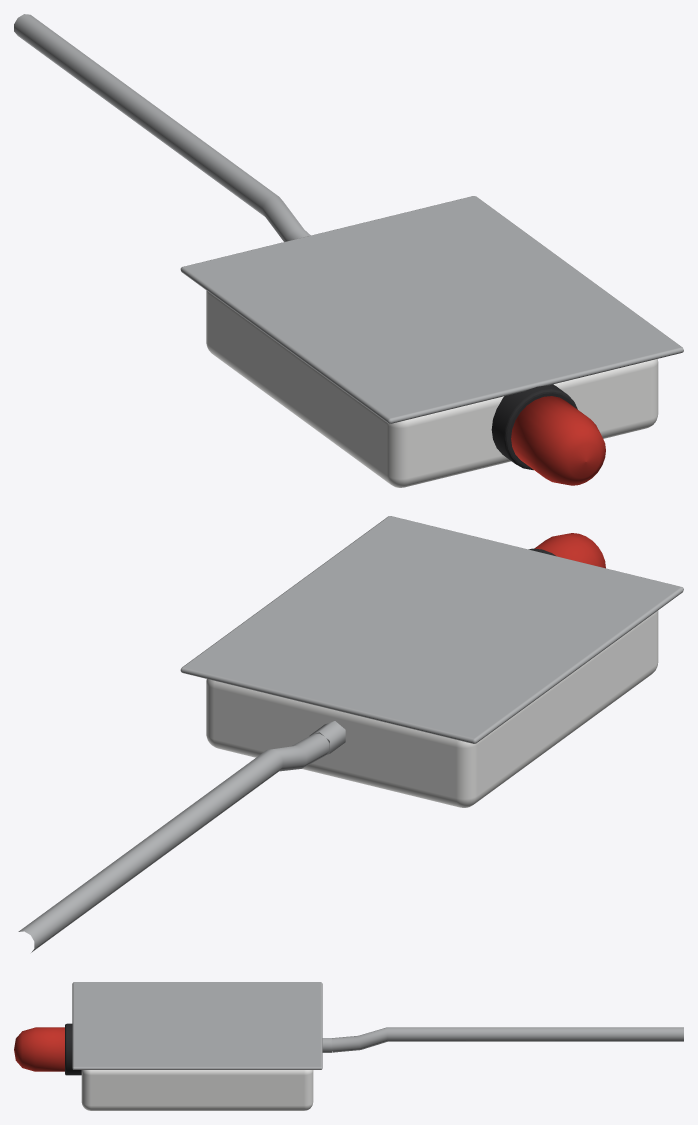
Rendered from AICOR_Lab__StorageRoom__ST01_O2.glb.
3 renders of one model, top to bottom at view 1: azimuth 30°, elevation 25°; view 2: azimuth 150°, elevation 25°; view 3: azimuth 270°, elevation 25°, orthographic. The views are drawn at different scales.
Parts seen in each view (by area): view 1: /World/AICOR_Lab/StorageRoom/ST01_O2/Visual/PlasticGrey, /World/AICOR_Lab/StorageRoom/ST01_O2/Visual/PlasticWhite, /World/AICOR_Lab/StorageRoom/ST01_O2/Visual/StackRed, /World/AICOR_Lab/StorageRoom/ST01_O2/Visual/PlasticBlack; view 2: /World/AICOR_Lab/StorageRoom/ST01_O2/Visual/PlasticGrey, /World/AICOR_Lab/StorageRoom/ST01_O2/Visual/PlasticWhite, /World/AICOR_Lab/StorageRoom/ST01_O2/Visual/StackRed; view 3: /World/AICOR_Lab/StorageRoom/ST01_O2/Visual/PlasticGrey, /World/AICOR_Lab/StorageRoom/ST01_O2/Visual/PlasticWhite, /World/AICOR_Lab/StorageRoom/ST01_O2/Visual/StackRed, /World/AICOR_Lab/StorageRoom/ST01_O2/Visual/PlasticBlack.
Part boxes in pixels (x1,y1,x2,y2): /World/AICOR_Lab/StorageRoom/ST01_O2/Visual/PlasticGrey: (14, 14, 683, 423); /World/AICOR_Lab/StorageRoom/ST01_O2/Visual/PlasticWhite: (206, 290, 658, 487); /World/AICOR_Lab/StorageRoom/ST01_O2/Visual/StackRed: (511, 396, 605, 485); /World/AICOR_Lab/StorageRoom/ST01_O2/Visual/PlasticBlack: (491, 384, 577, 470); /World/AICOR_Lab/StorageRoom/ST01_O2/Visual/PlasticGrey: (18, 516, 683, 952); /World/AICOR_Lab/StorageRoom/ST01_O2/Visual/PlasticWhite: (206, 610, 658, 807); /World/AICOR_Lab/StorageRoom/ST01_O2/Visual/StackRed: (534, 533, 605, 568); /World/AICOR_Lab/StorageRoom/ST01_O2/Visual/PlasticGrey: (72, 982, 683, 1069); /World/AICOR_Lab/StorageRoom/ST01_O2/Visual/PlasticWhite: (81, 1070, 313, 1110); /World/AICOR_Lab/StorageRoom/ST01_O2/Visual/StackRed: (14, 1027, 64, 1071); /World/AICOR_Lab/StorageRoom/ST01_O2/Visual/PlasticBlack: (65, 1023, 81, 1075).
Bounding box in the file's own units: 0.22 × 0.0656 × 0.723.
